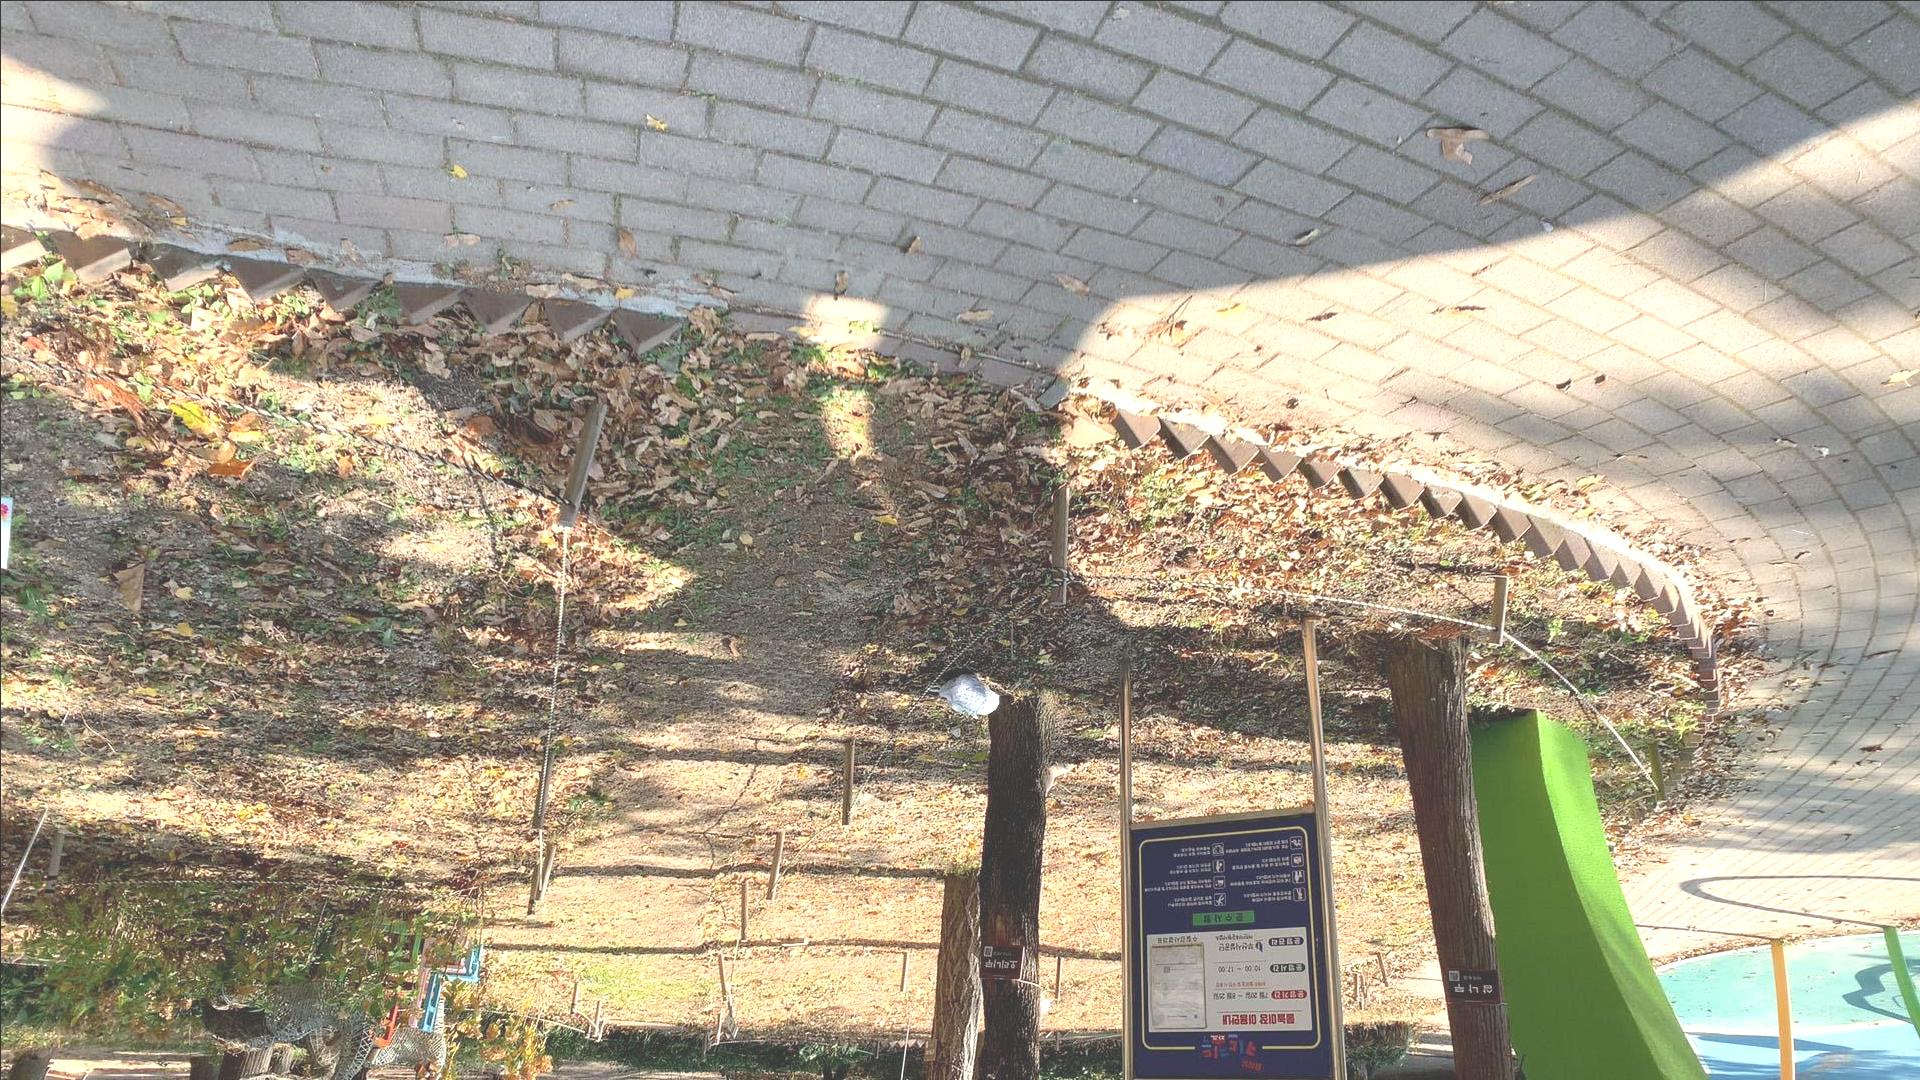white_bag: (934, 673, 1004, 724)
